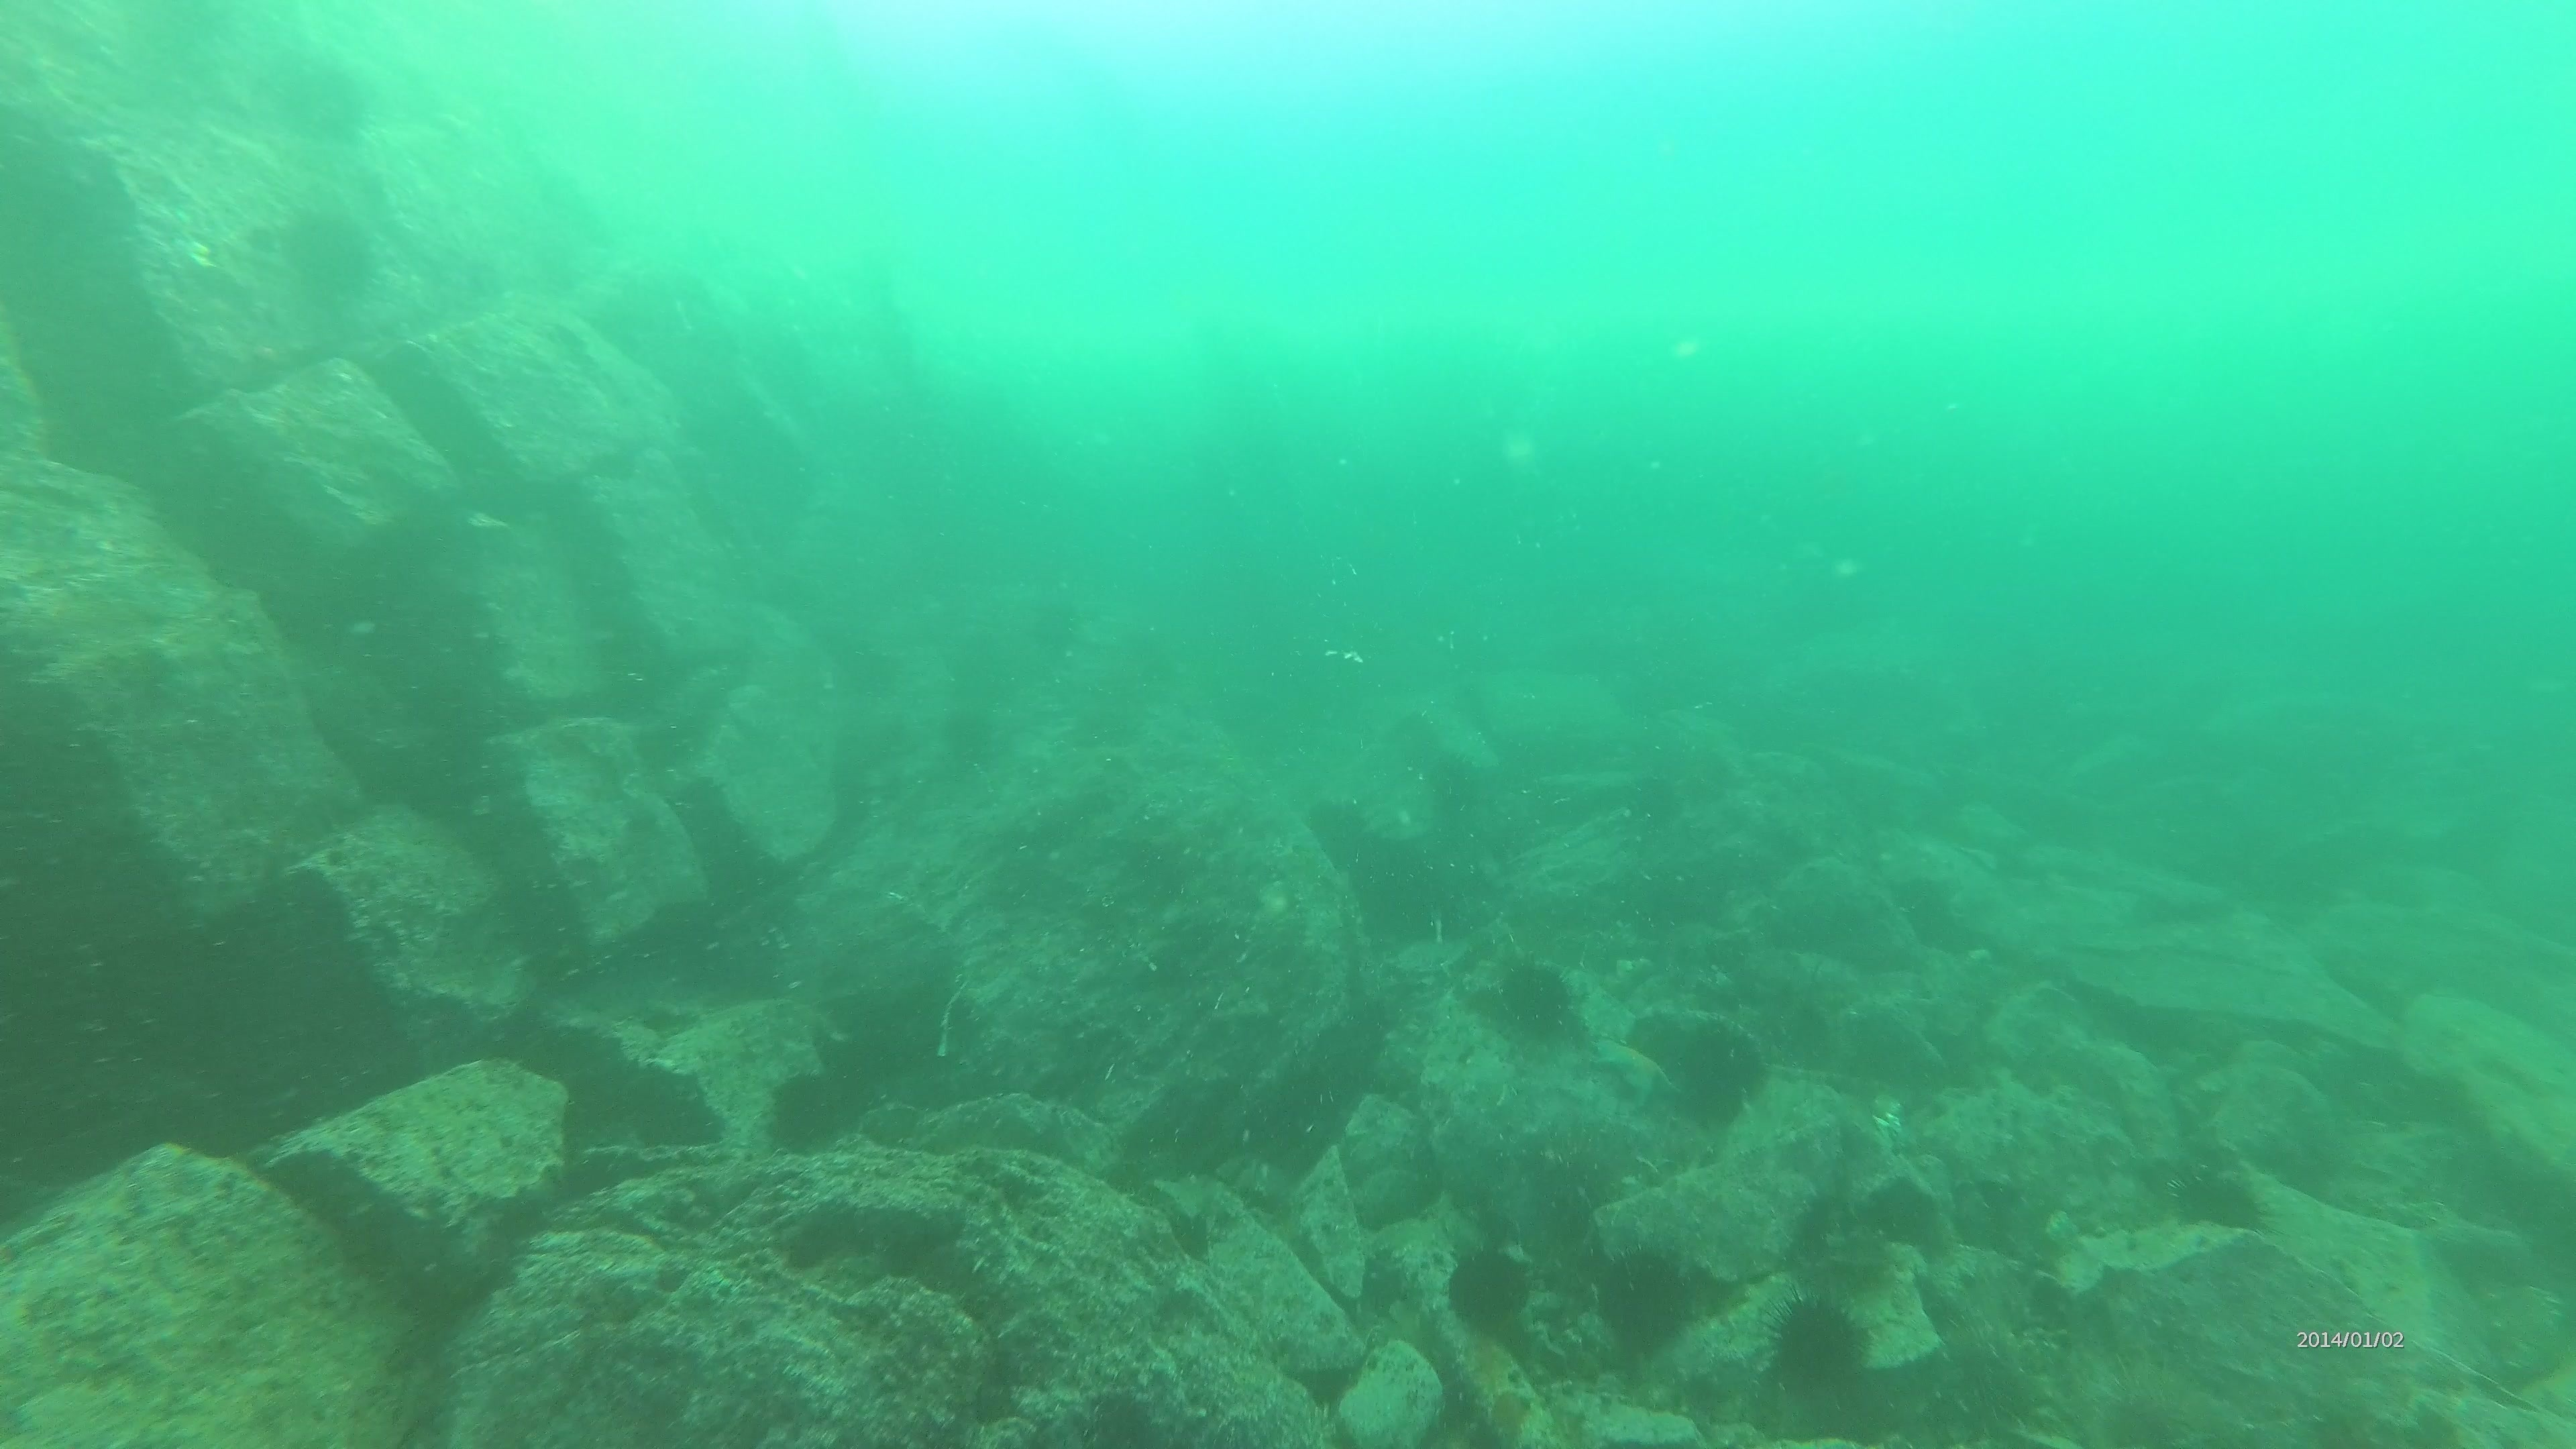echinus: (1898, 1332, 2054, 1445), (1759, 1288, 1877, 1405), (1587, 1238, 1704, 1357), (1661, 1012, 1775, 1131), (272, 202, 386, 318), (264, 50, 380, 152), (2097, 1352, 2217, 1449), (1479, 950, 1587, 1051), (1440, 1235, 1541, 1341), (757, 1062, 865, 1161), (2173, 1168, 2265, 1244)
starfish: (1589, 1035, 1683, 1116)
